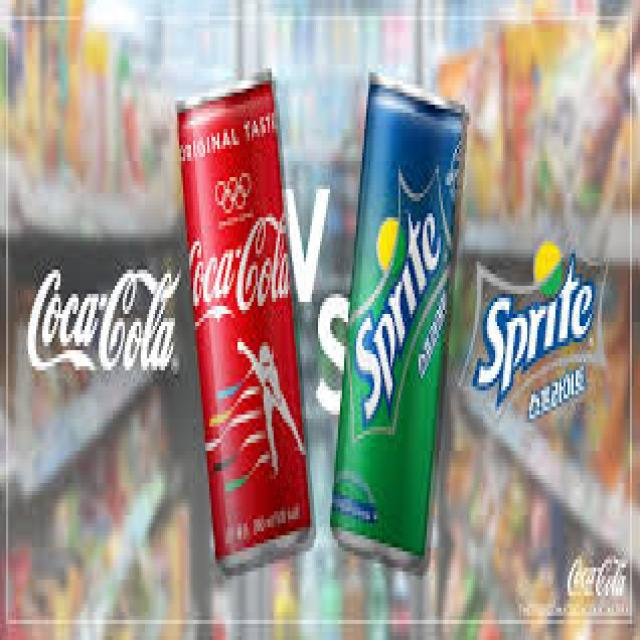Coca-Cola: (174, 62, 322, 578)
